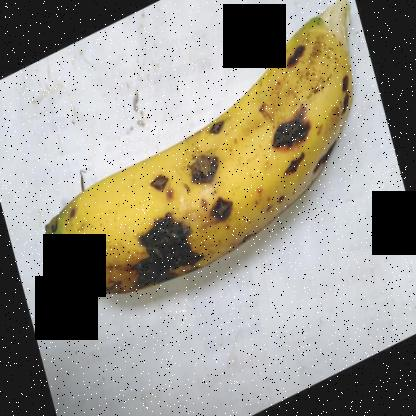rotten: (121, 199, 205, 303), (265, 110, 338, 175), (196, 192, 246, 242), (190, 145, 221, 203), (195, 101, 233, 148), (281, 34, 314, 78), (333, 72, 360, 116), (140, 169, 178, 197)
